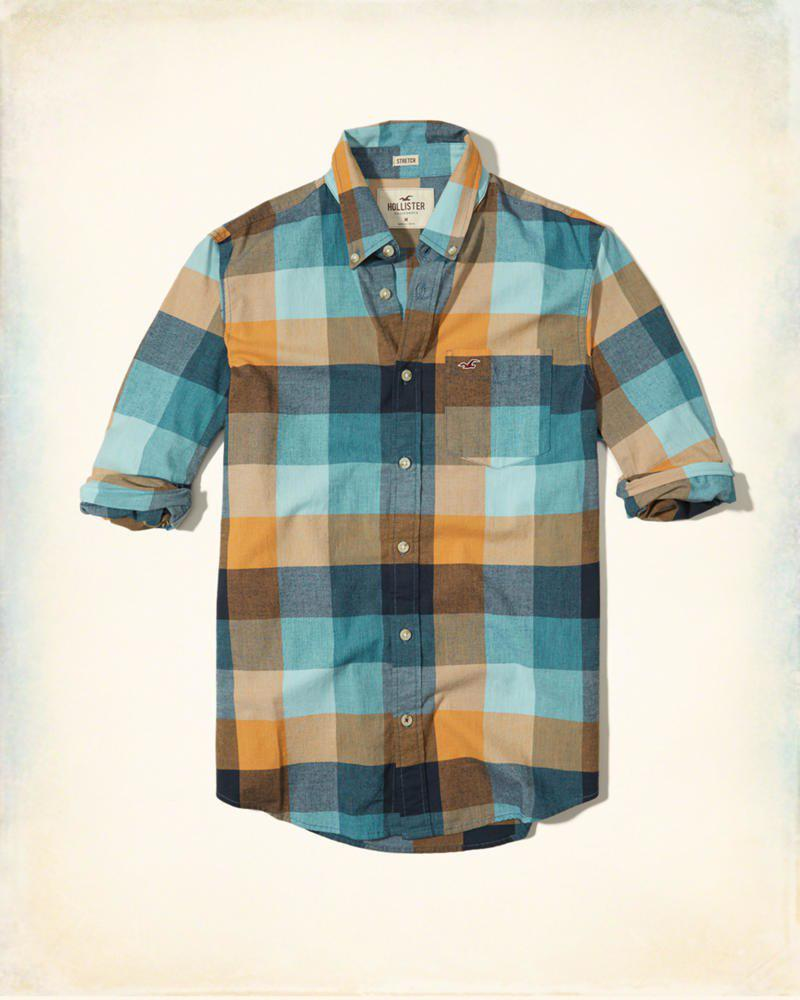teeshirt: (68, 119, 747, 862)
